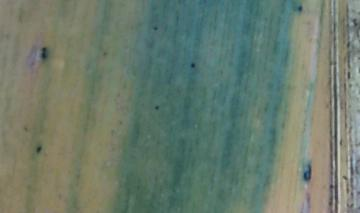tarspot: (302, 161, 313, 181), (39, 45, 48, 59), (22, 124, 31, 134), (35, 144, 43, 155), (344, 39, 352, 49), (350, 17, 358, 27), (296, 4, 304, 13), (153, 103, 160, 112), (346, 70, 352, 80), (189, 61, 196, 69), (151, 25, 159, 32), (101, 50, 108, 57)
